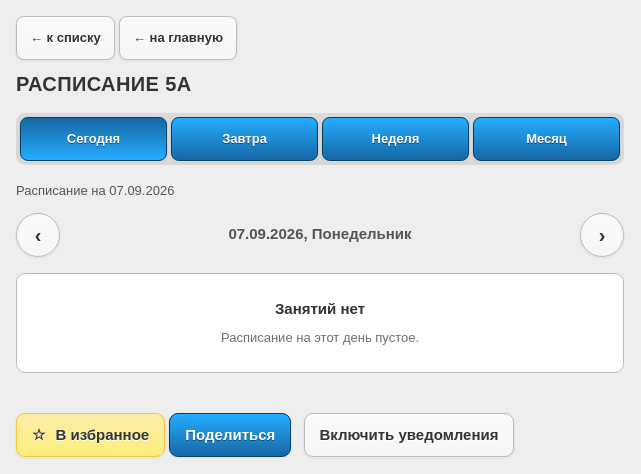
Test: Schedule screen › swipe navigation › seeds the day cursor from a pinned date and swipes forward from it
Expected: the text "Расписание на 07.09.2026" is shown, [16,183,174,198]
Press the mouse on the element with class "day-pane" at (320,292), box [16,212,624,372]
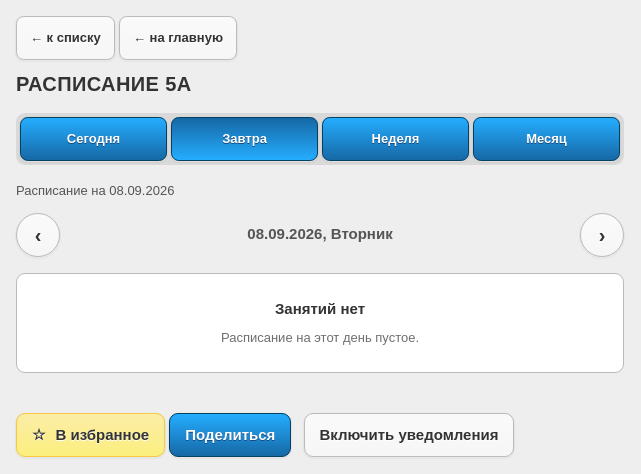
Result: the text "Расписание на 08.09.2026" is shown at [16,183,174,198]
